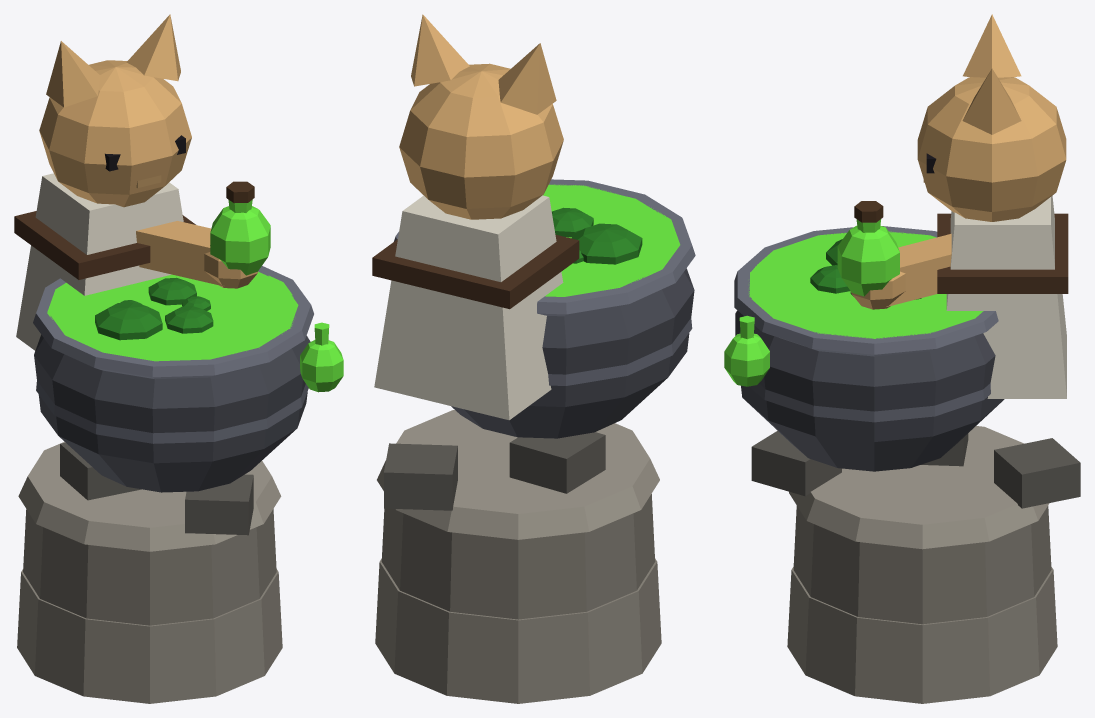
File: tower_poison_l2.glb
The picture shows the model from 3 angles, left to right: view 1: azimuth 30°, elevation 25°; view 2: azimuth 150°, elevation 25°; view 3: azimuth 270°, elevation 25°; orthographic projection. The views are drawn at different scales.
Parts seen in each view (by area): view 1: Body, Turret; view 2: Body; view 3: Body, Turret.
Boxes of the visible parts, x1,y1,x2,y2 form: Body: [14, 14, 343, 703]; Turret: [136, 181, 270, 288]; Body: [372, 14, 695, 703]; Body: [724, 14, 1080, 703]; Turret: [837, 201, 951, 309].
Bounding box in the file's own units: 0.5735 × 1.34 × 0.7121.
